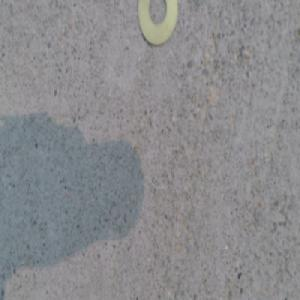Washer: (138, 0, 179, 48)
